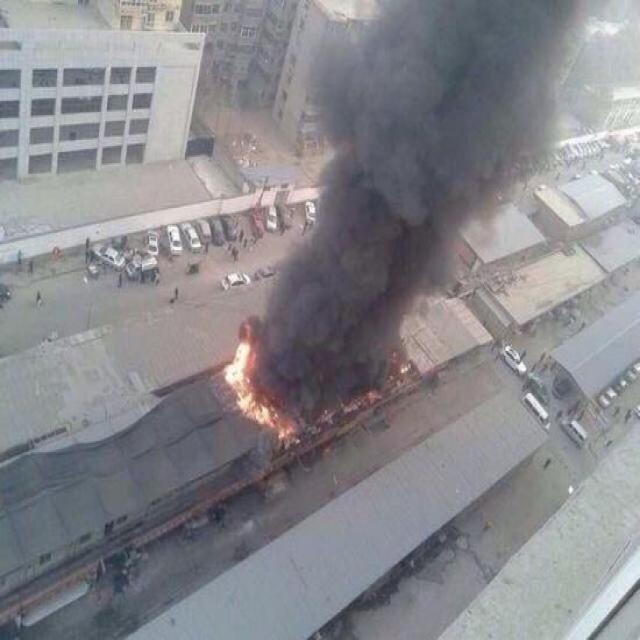Fire: (222, 340, 293, 440)
Smoke: (237, 2, 581, 426)
